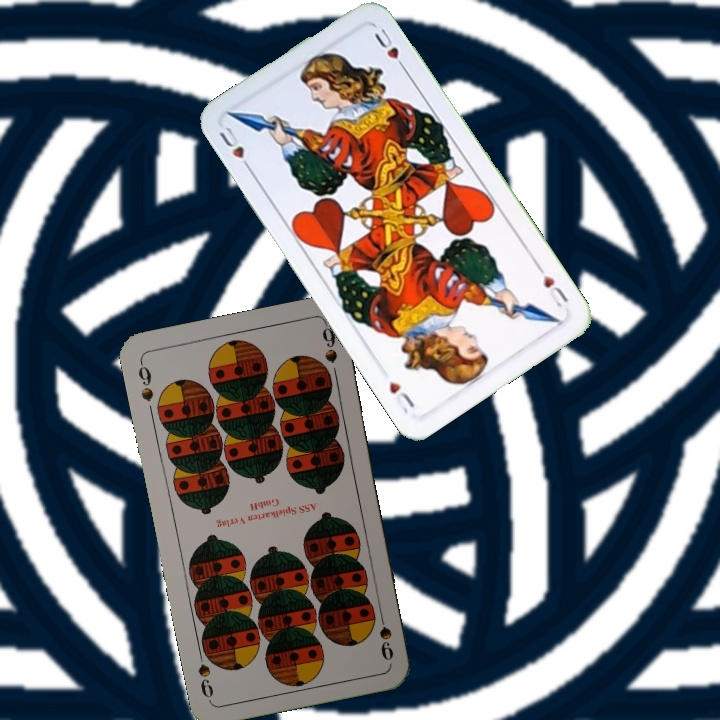HU: (215, 121, 255, 175), (533, 261, 571, 310)
S9: (374, 605, 396, 664), (134, 357, 156, 404)
